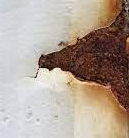Corrosion: (37, 1, 129, 123)
